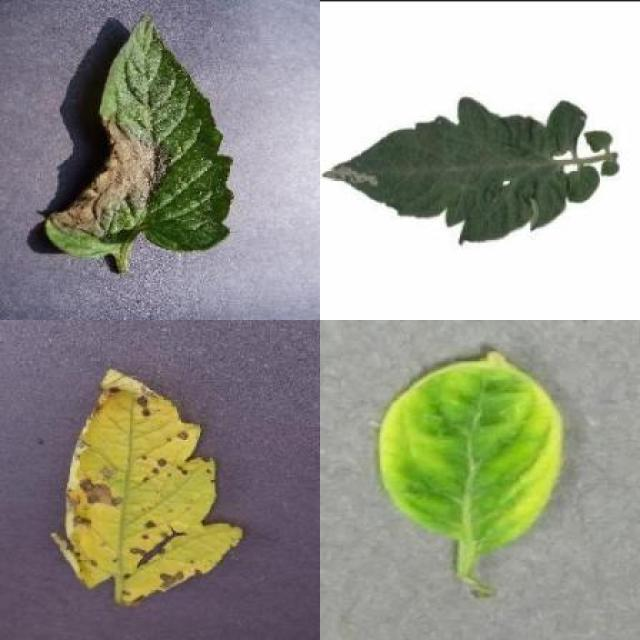Late Blight: (44, 13, 234, 260)
Leaf Miner: (321, 90, 570, 244)
Septoria: (54, 367, 245, 610)
Yellow Leaf Curl Virus: (380, 352, 564, 552)
